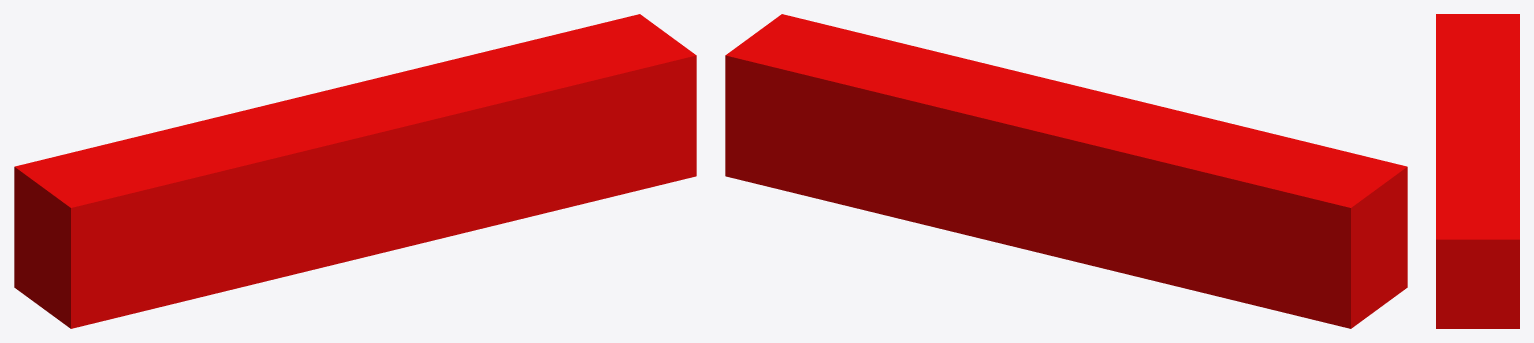
File: original-101.obj
3 renders of one model, left to right at view 1: azimuth 30°, elevation 25°; view 2: azimuth 150°, elevation 25°; view 3: azimuth 270°, elevation 25°, orthographic. The views are drawn at different scales.
Parts seen in each view (by area): view 1: mesh223/mesh223-geometry#mesh223-geometry; view 2: mesh223/mesh223-geometry#mesh223-geometry; view 3: mesh223/mesh223-geometry#mesh223-geometry.
Boxes of the visible parts, bbox=[...] form: mesh223/mesh223-geometry#mesh223-geometry: bbox=[14, 14, 696, 328]; mesh223/mesh223-geometry#mesh223-geometry: bbox=[725, 14, 1407, 328]; mesh223/mesh223-geometry#mesh223-geometry: bbox=[1436, 14, 1519, 328].
Bounding box in the file's own units: 0.0138 × 0.00254 × 0.00216.
